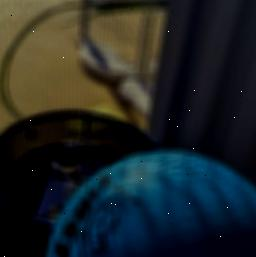algae: (40, 144, 256, 257)
